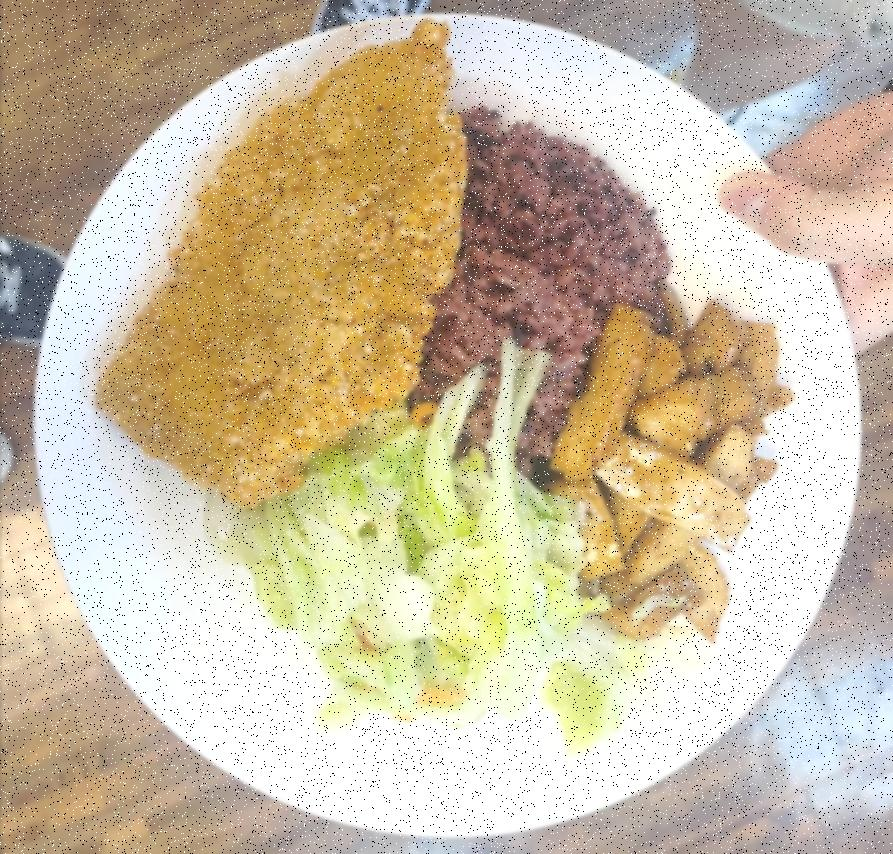chicken steak: (90, 13, 464, 512)
plate: (29, 12, 874, 839)
purple rice: (385, 108, 678, 466)
side dish: (227, 415, 618, 745), (552, 299, 796, 636)
